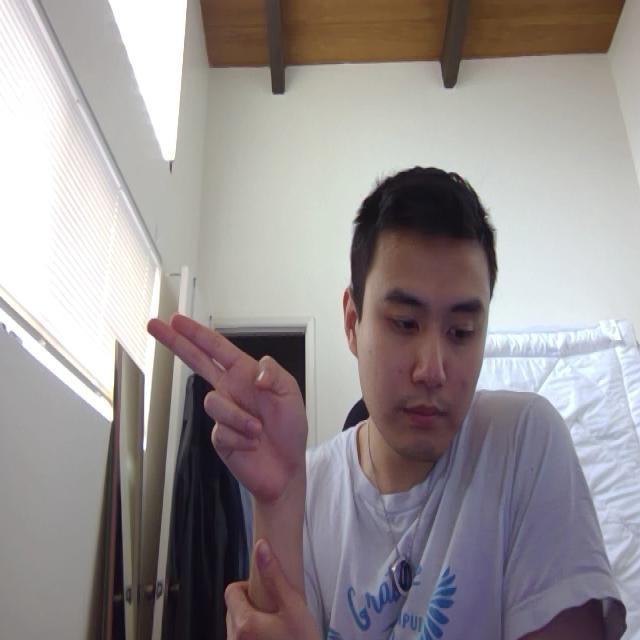H: (128, 275, 341, 526)
